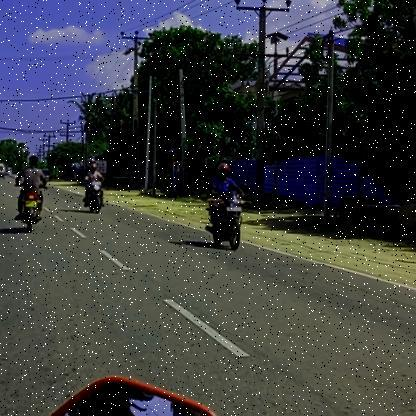motorcycle: (202, 190, 249, 254), (13, 188, 47, 236), (81, 180, 109, 216)
